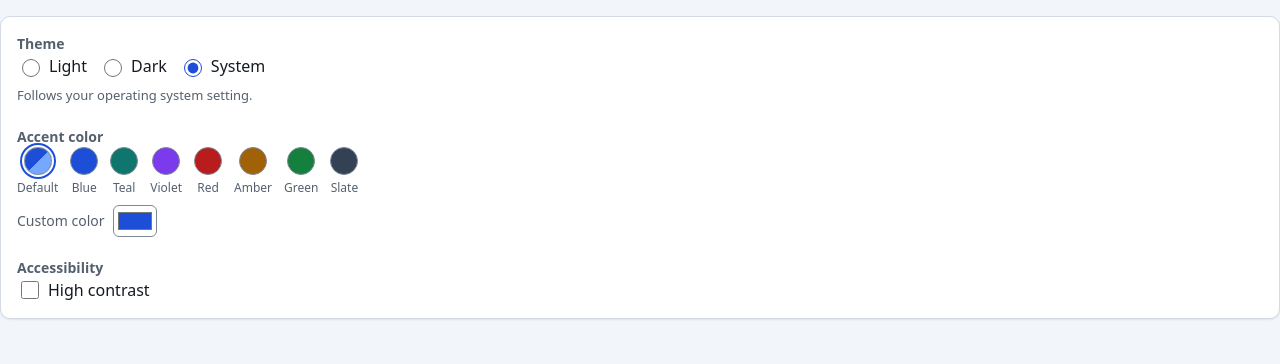
Test: SettingsPanel › takes a custom color and warns when it has to be adjusted
// A near white color would put white text on white, so it gets adjusted.
Type "#ffff00" into the colour field labelled "Custom color" at (134, 220), box left=112, top=204, right=156, bottom=236
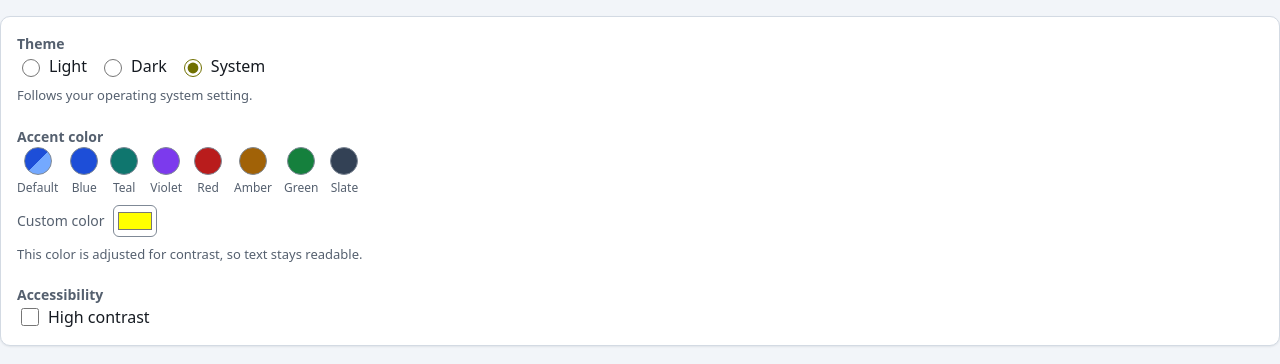
Check: the message shows "adjusted for contrast", box left=17, top=244, right=362, bottom=262
